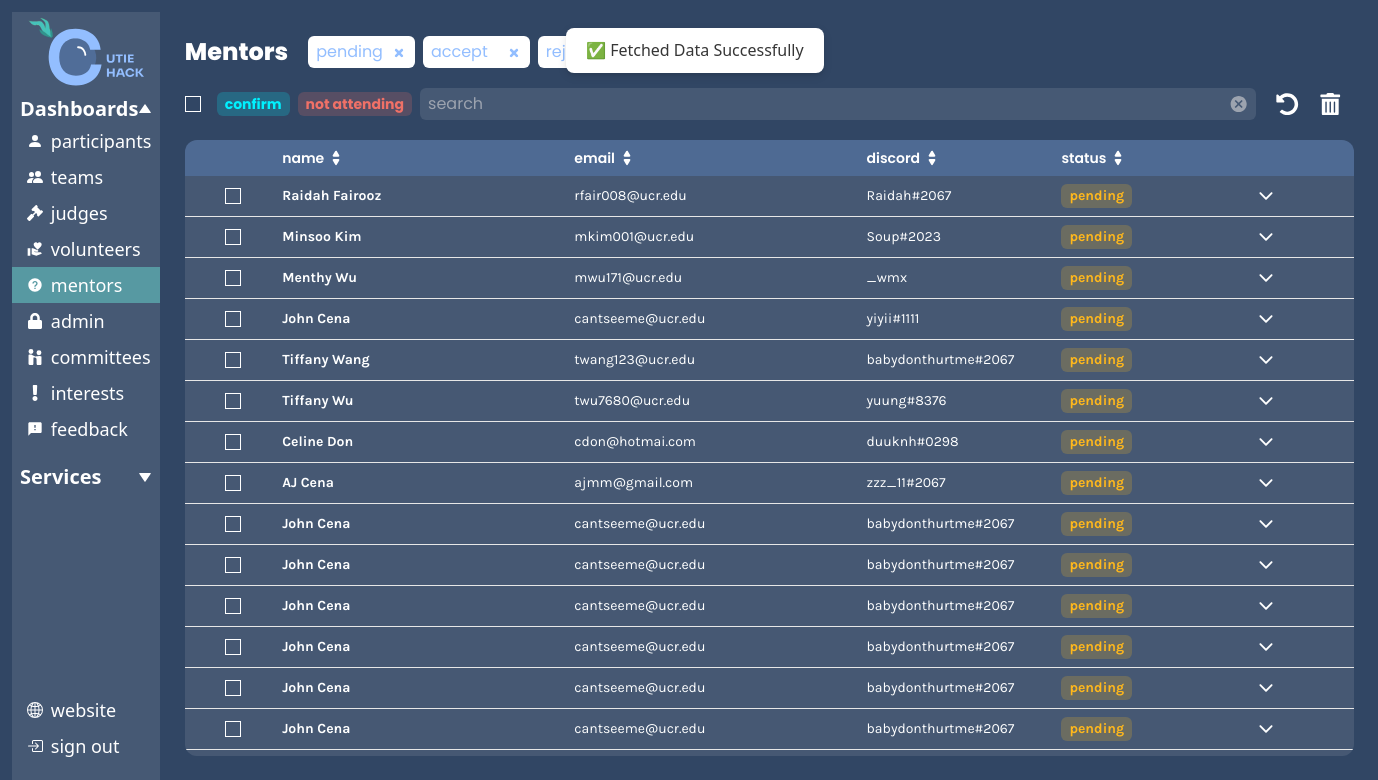
Mentor Sort › Sort Name Down
Click the icon with test id "name-sort-down" at (336, 162), box 332,158 -> 340,166
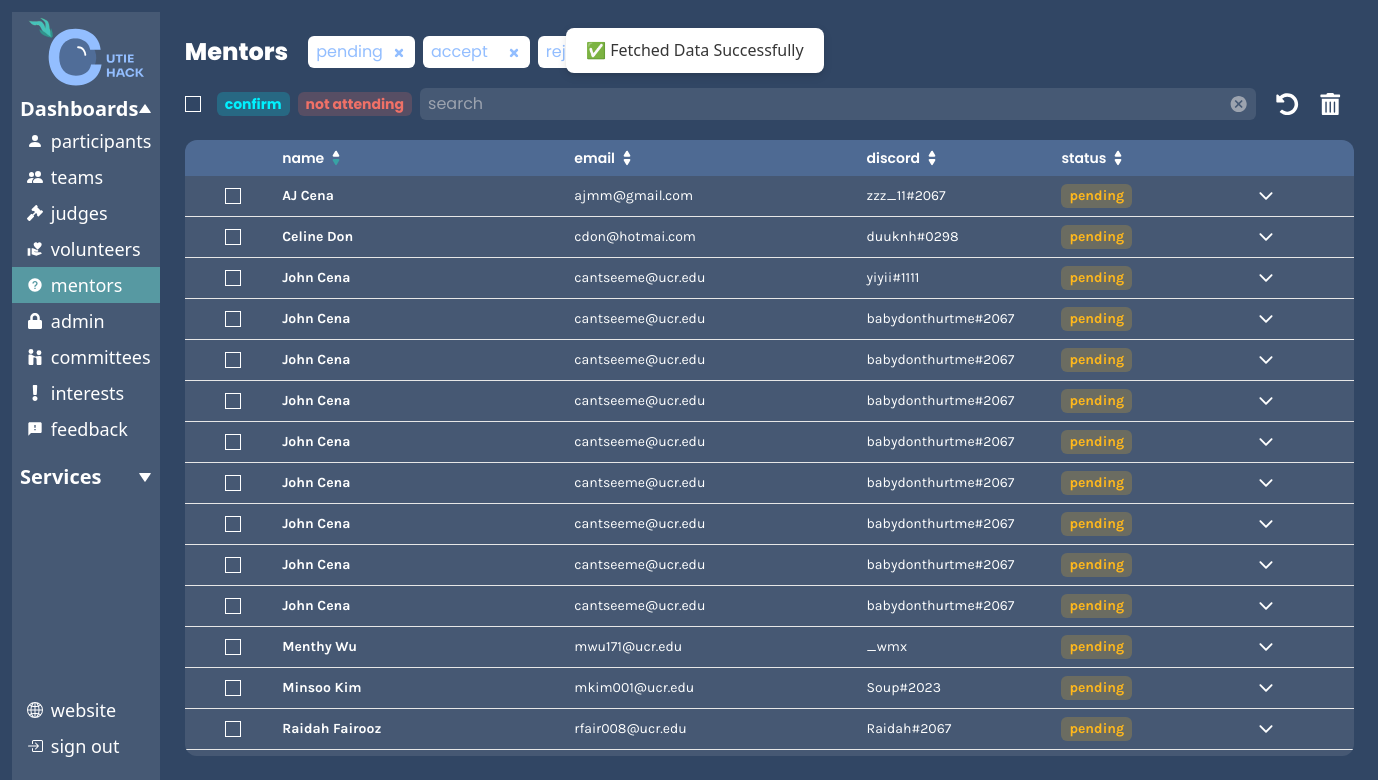
Now the text with test id "name" reads "AJ Cena", box 282,186 -> 334,206
Now the text with test id "name" reads "Celine Don", box 282,227 -> 353,247
Now the text with test id "name" in the row of "yiyii#1111" reads "John Cena", box 282,268 -> 350,288
